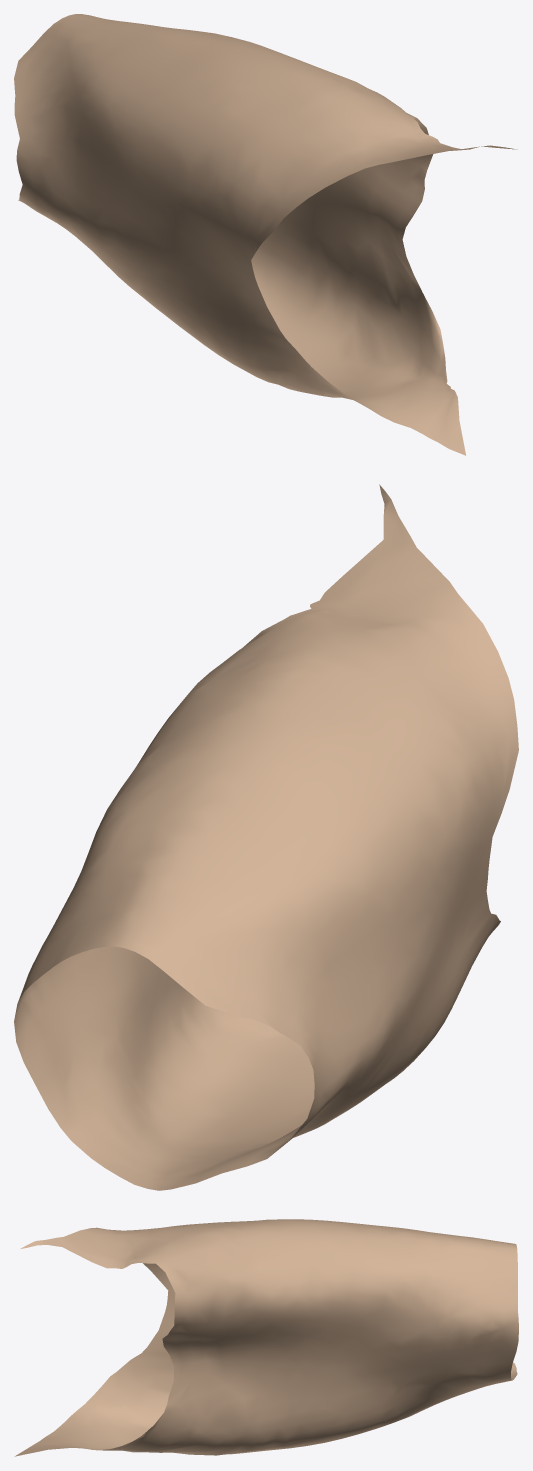
The picture shows the model from 3 angles, top to bottom: view 1: azimuth 30°, elevation 25°; view 2: azimuth 150°, elevation 25°; view 3: azimuth 270°, elevation 25°; orthographic projection. The views are drawn at different scales.
Parts seen in each view (by area): view 1: 右侧臂筋膜; view 2: 右侧臂筋膜; view 3: 右侧臂筋膜.
Boxes of the visible parts, bbox=[...] form: 右侧臂筋膜: bbox=[14, 14, 517, 455]; 右侧臂筋膜: bbox=[14, 484, 518, 1190]; 右侧臂筋膜: bbox=[14, 1219, 518, 1456].
Size of the model in its own units: 0.1297 by 0.1496 by 0.2973.
